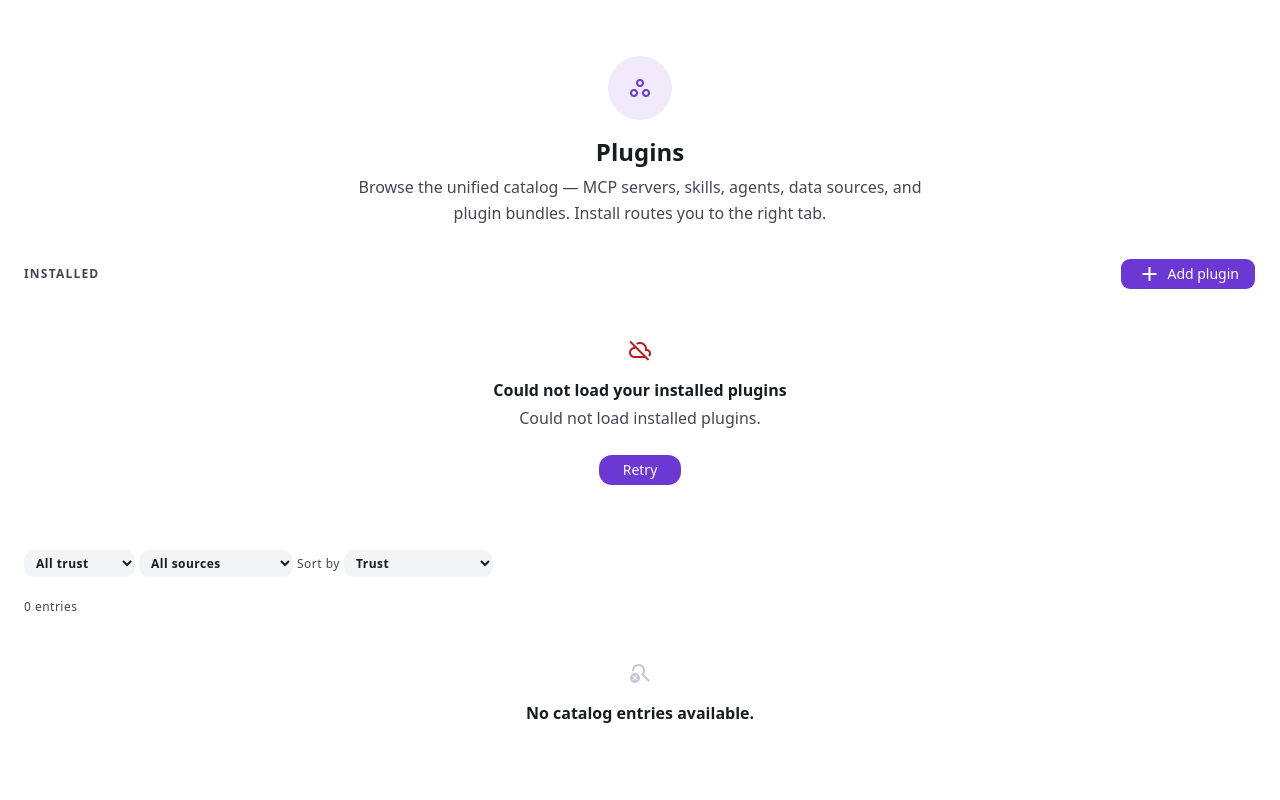
it: Plugins — installed section (X6) › shows a dedicated error title with a working Retry when listPlugins rejects
Check: the heading "Could not load your installed plugins" is shown, box [493, 378, 787, 402]
Check: the text "Could not load installed plugins." is shown, box [519, 406, 761, 430]
Click the button "Retry": (640, 470) [598, 454, 682, 486]
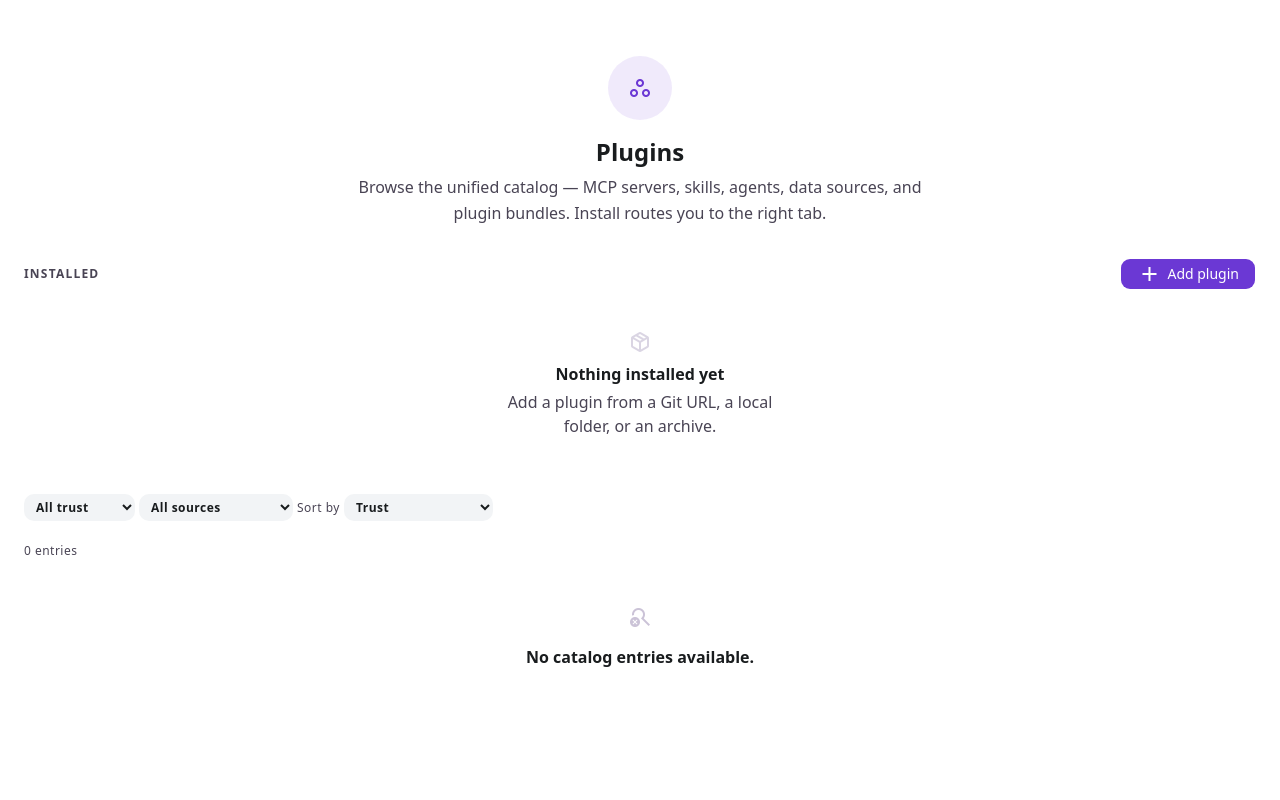
Check: the heading "Nothing installed yet" is shown, box [556, 362, 724, 386]
